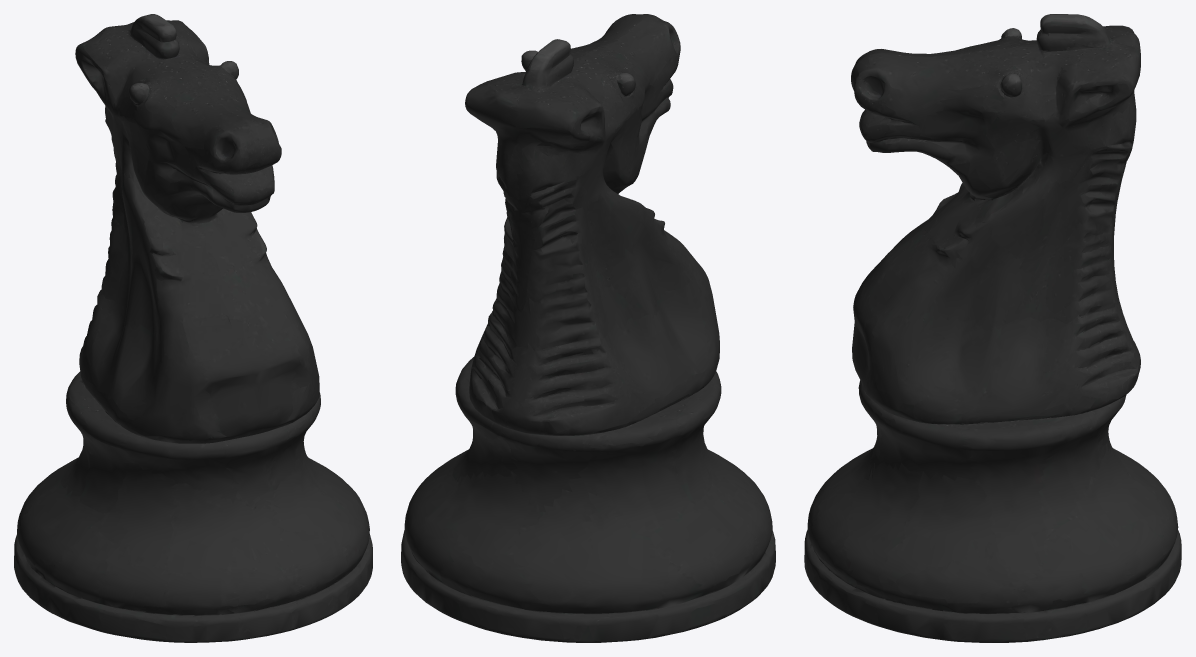
File: knight.glb
3 views of the same model, side by side, from view 1: azimuth 30°, elevation 25°; view 2: azimuth 150°, elevation 25°; view 3: azimuth 270°, elevation 25° (orthographic). The views are drawn at different scales.
Parts seen in each view (by area): view 1: Mesh_0; view 2: Mesh_0; view 3: Mesh_0.
Boxes of the visible parts, box(x1,y1,x2,y2) form: Mesh_0: box(14, 14, 372, 642); Mesh_0: box(401, 14, 775, 642); Mesh_0: box(804, 14, 1181, 642).
Bounding box in the file's own units: 1.18 × 1.9 × 1.18.
1 material, 1 textured.
